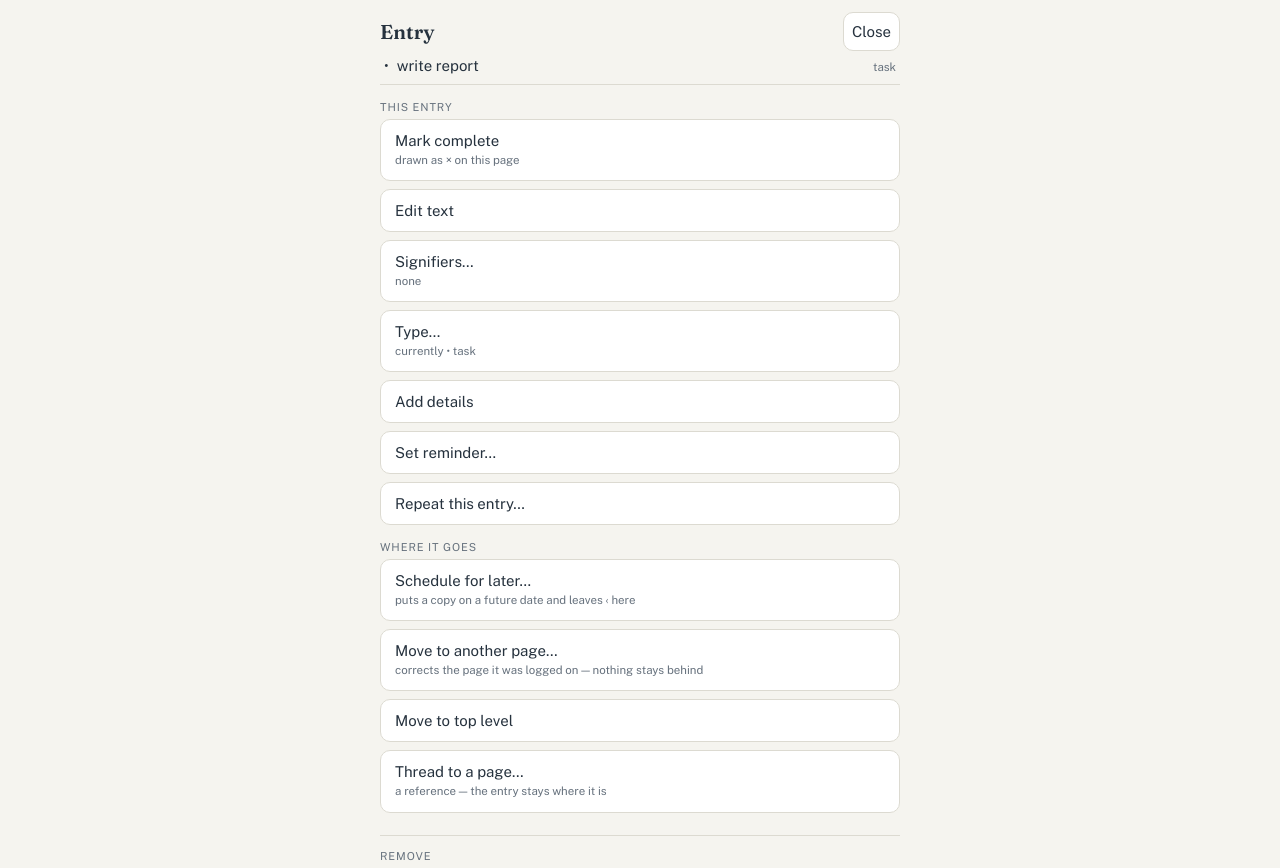
Test: actions mode › a sub-bullet is told it will be promoted, since its parent stays put
This screenshot has width=1280, height=868.
Click the button "Move to another page…" at point(640, 660), box x1=380 y1=629 x2=900 y2=692
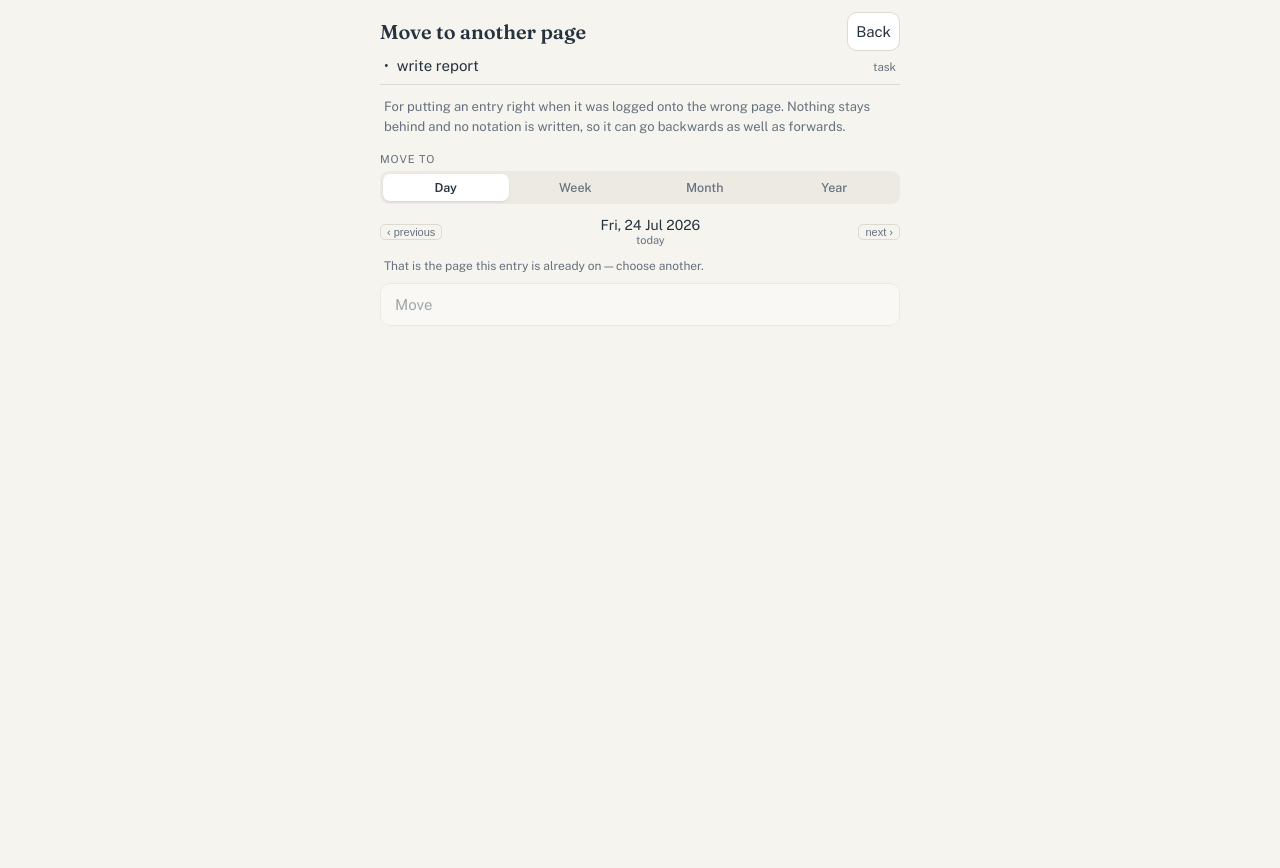
Click the button with aria-label "Next day" at point(879, 232), box x1=858 y1=224 x2=900 y2=240
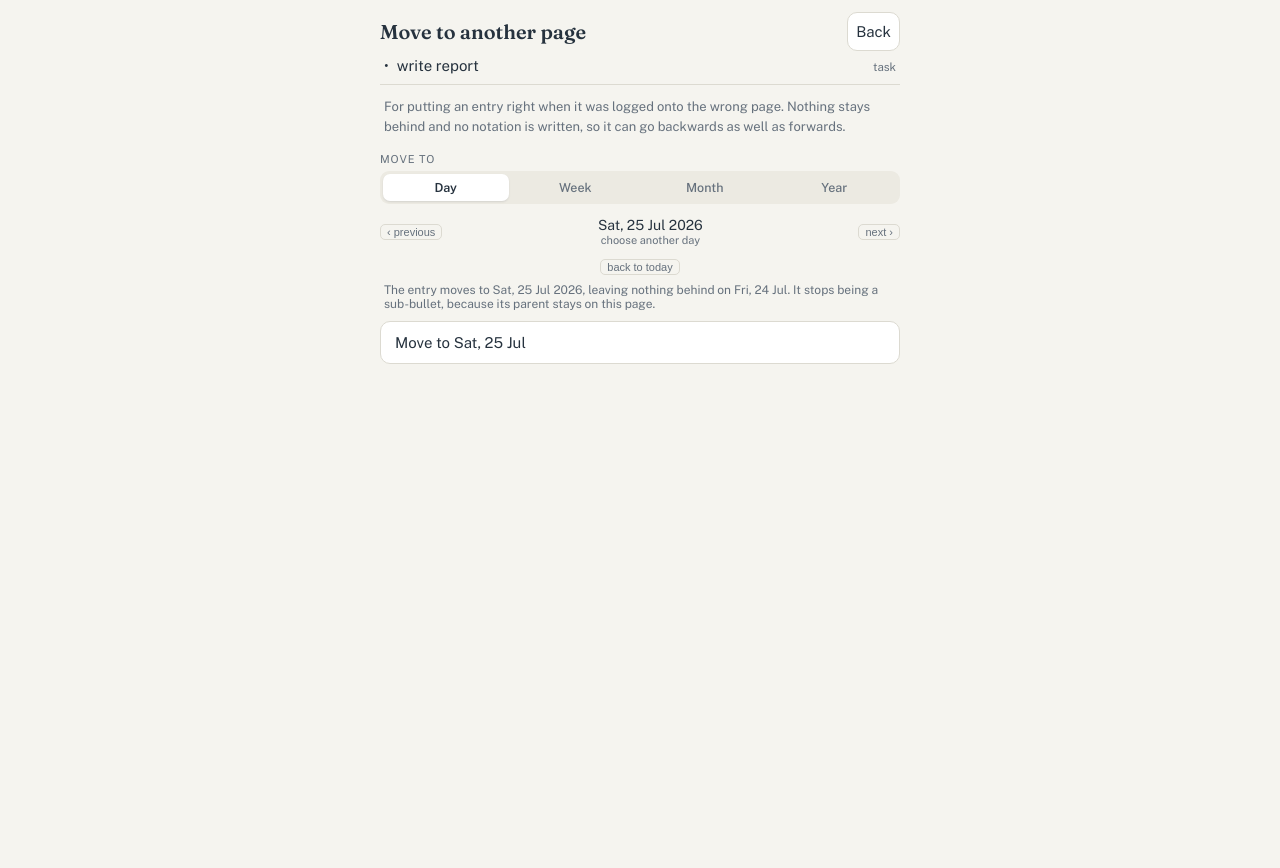
Now the text "stops being a sub-bullet" is shown, box x1=384 y1=283 x2=878 y2=311
